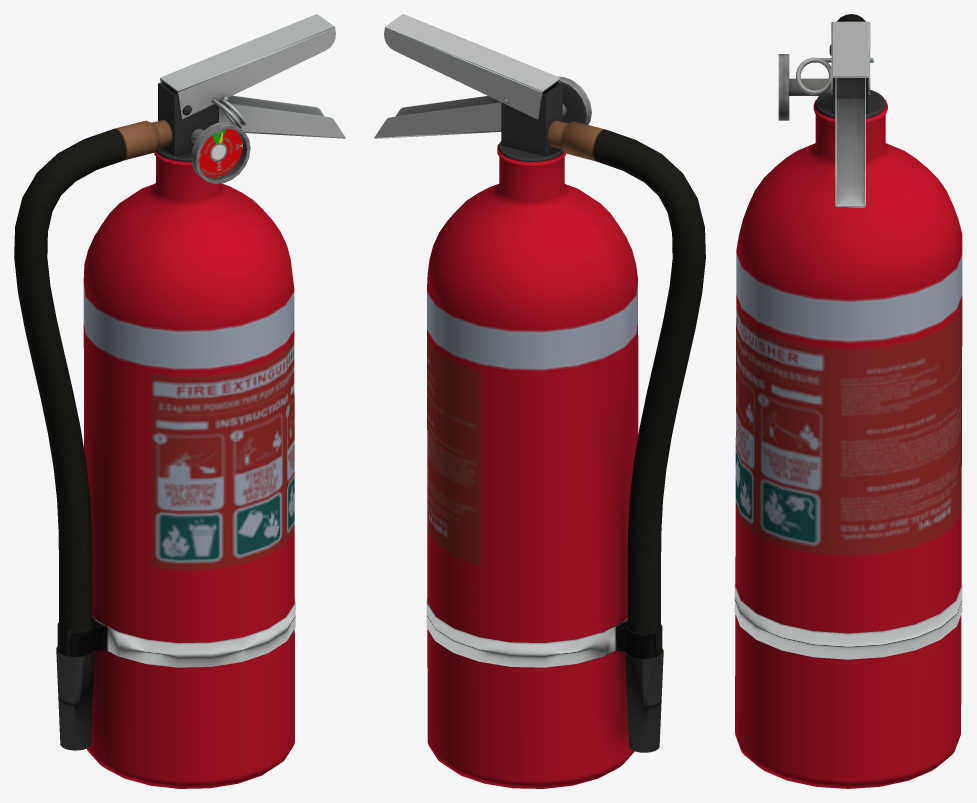
The model's file is fire extinguisher.fbx.
3 renders of one model, left to right at view 1: azimuth 30°, elevation 25°; view 2: azimuth 150°, elevation 25°; view 3: azimuth 270°, elevation 25°, orthographic. The views are drawn at different scales.
Visible parts, largest first — view 1: front4_lambert2_0; view 2: front4_lambert2_0; view 3: front4_lambert2_0.
Boxes of the visible parts, left/top/right/bottom form: front4_lambert2_0: left=14, top=14, right=345, bottom=788; front4_lambert2_0: left=374, top=14, right=705, bottom=788; front4_lambert2_0: left=734, top=14, right=962, bottom=788.
Bounding box in the file's own units: 9.91 × 20.61 × 5.69.
1 material, 1 textured.
